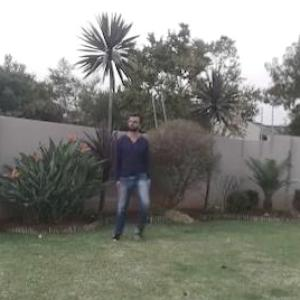follow: (112, 109, 151, 242)
